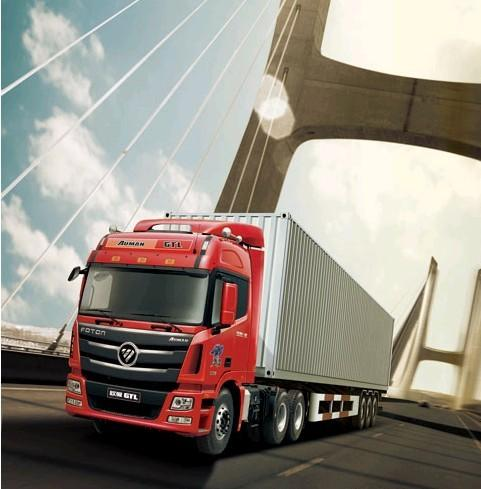truck: (64, 187, 399, 456)
